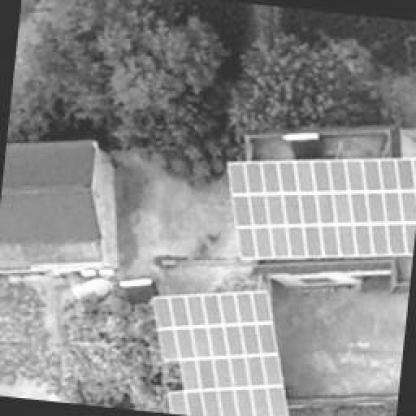solar-pv-panel: (225, 156, 416, 259), (152, 289, 288, 416)
